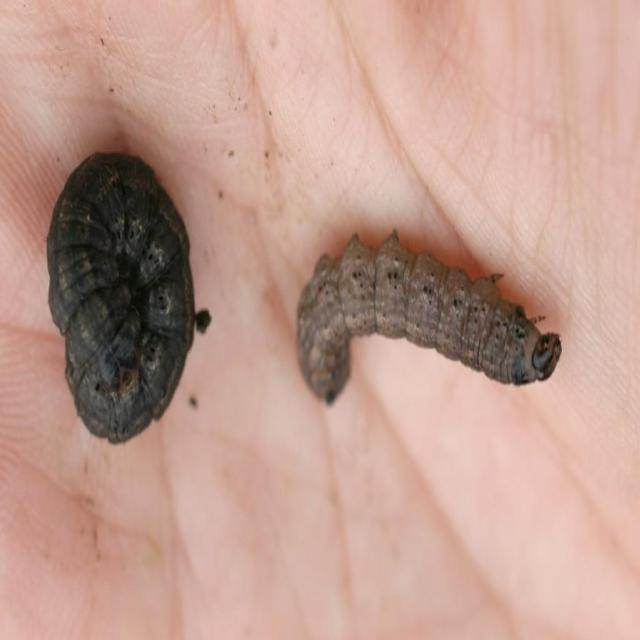black cutworm: (32, 150, 202, 447), (288, 228, 565, 409)
